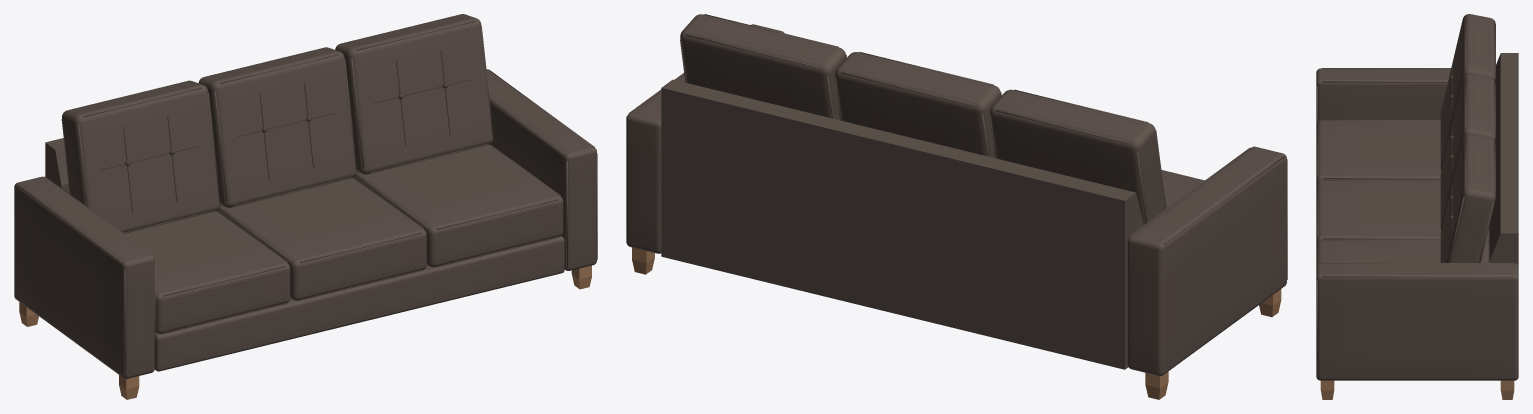
File: benza_220x90.glb
The picture shows the model from 3 angles, left to right: view 1: azimuth 30°, elevation 25°; view 2: azimuth 150°, elevation 25°; view 3: azimuth 270°, elevation 25°; orthographic projection. The views are drawn at different scales.
Parts seen in each view (by area): view 1: p1, p2, p0; view 2: p1, p0, p2; view 3: p1, p2, p0.
Part boxes in pixels (x1,y1,x2,y2): p1: (14,14,597,378); p2: (22,15,593,373); p0: (19,265,591,399); p1: (626,14,1287,375); p0: (632,247,1281,399); p2: (634,17,1276,241); p1: (1316,14,1518,380); p2: (1325,16,1512,273); p0: (1320,380,1514,399).
Bounding box in the file's own units: 2.2 × 0.9642 × 0.9006.
3 materials, 2 textured.
